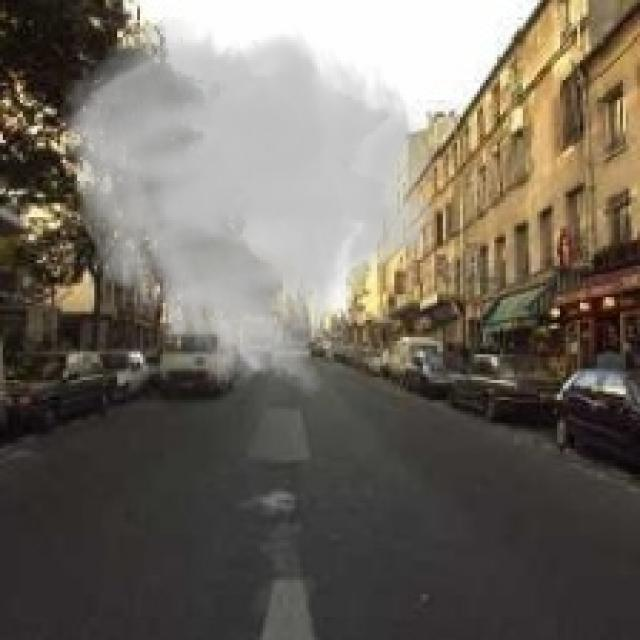Smoke: (57, 14, 440, 400)
